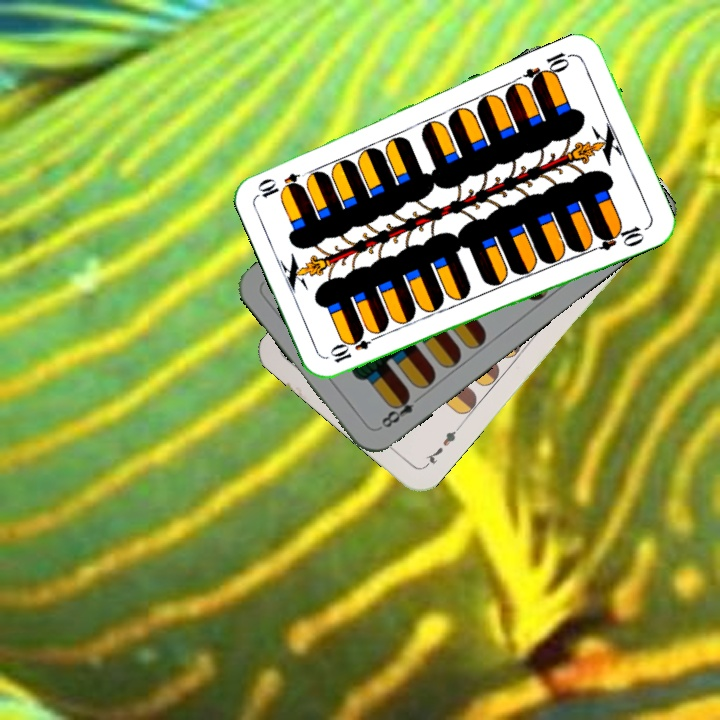E10: (325, 326, 382, 366), (521, 48, 578, 88)
E7: (420, 422, 464, 470)
E8: (374, 388, 425, 432)
